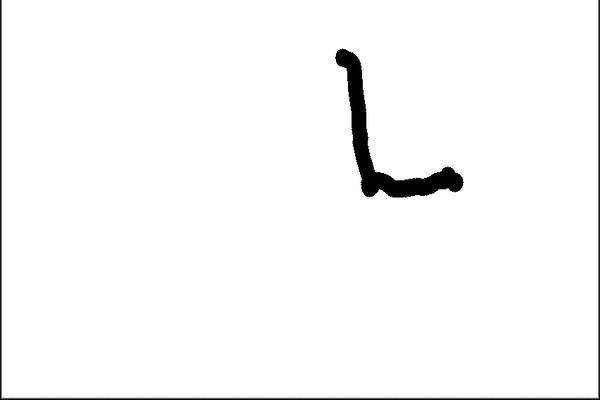L: (327, 39, 468, 206)
